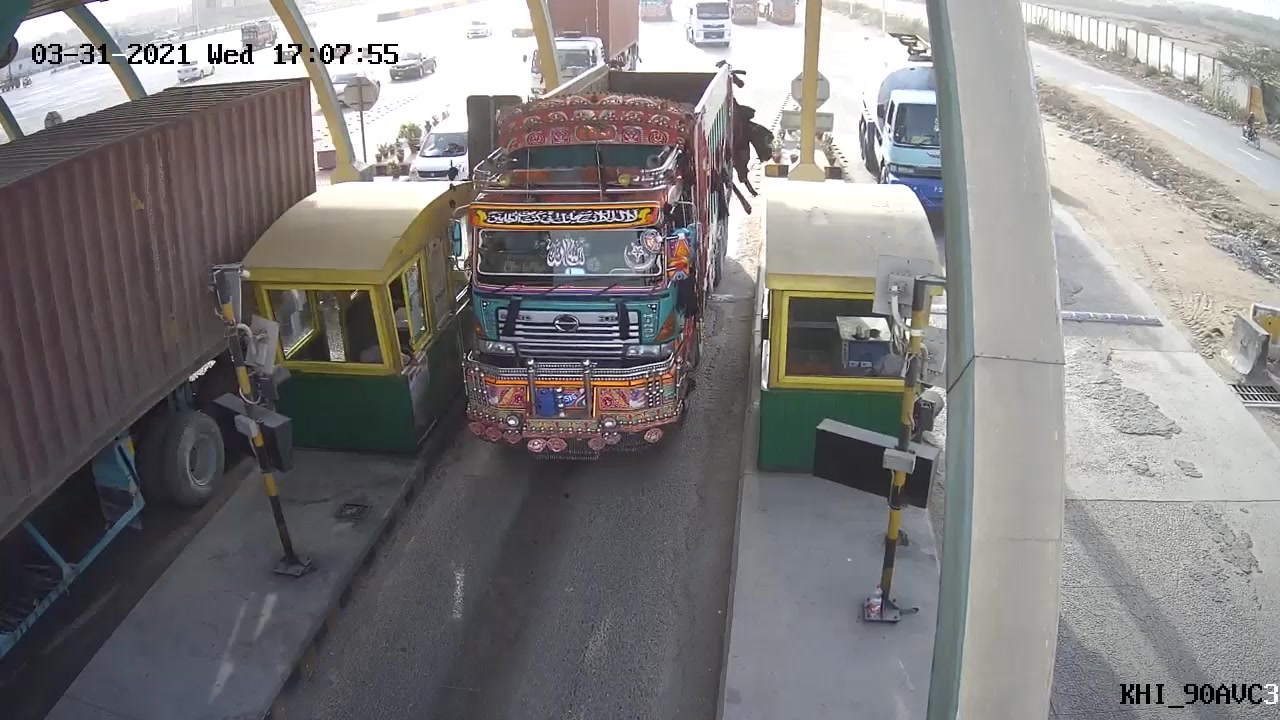F5: (442, 56, 753, 462)
